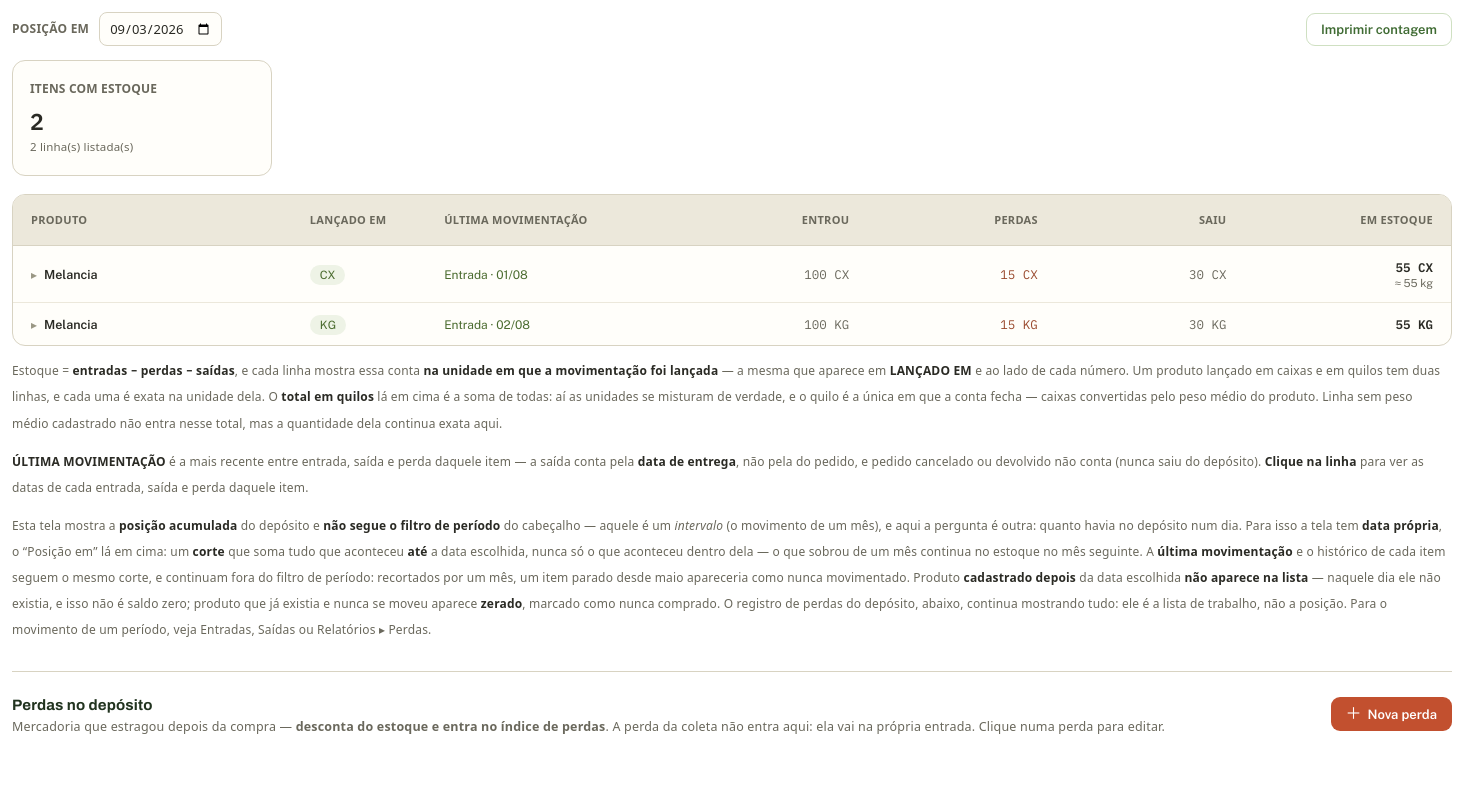
EstoqueLista — historico por item (custo: uma busca para a tela inteira) › cada linha ve so o proprio historico — (produto, unidade) e a chave
The width and height of the screenshot is (1464, 801).
Click the 2nd button: (71,274) [13,246,1451,303]
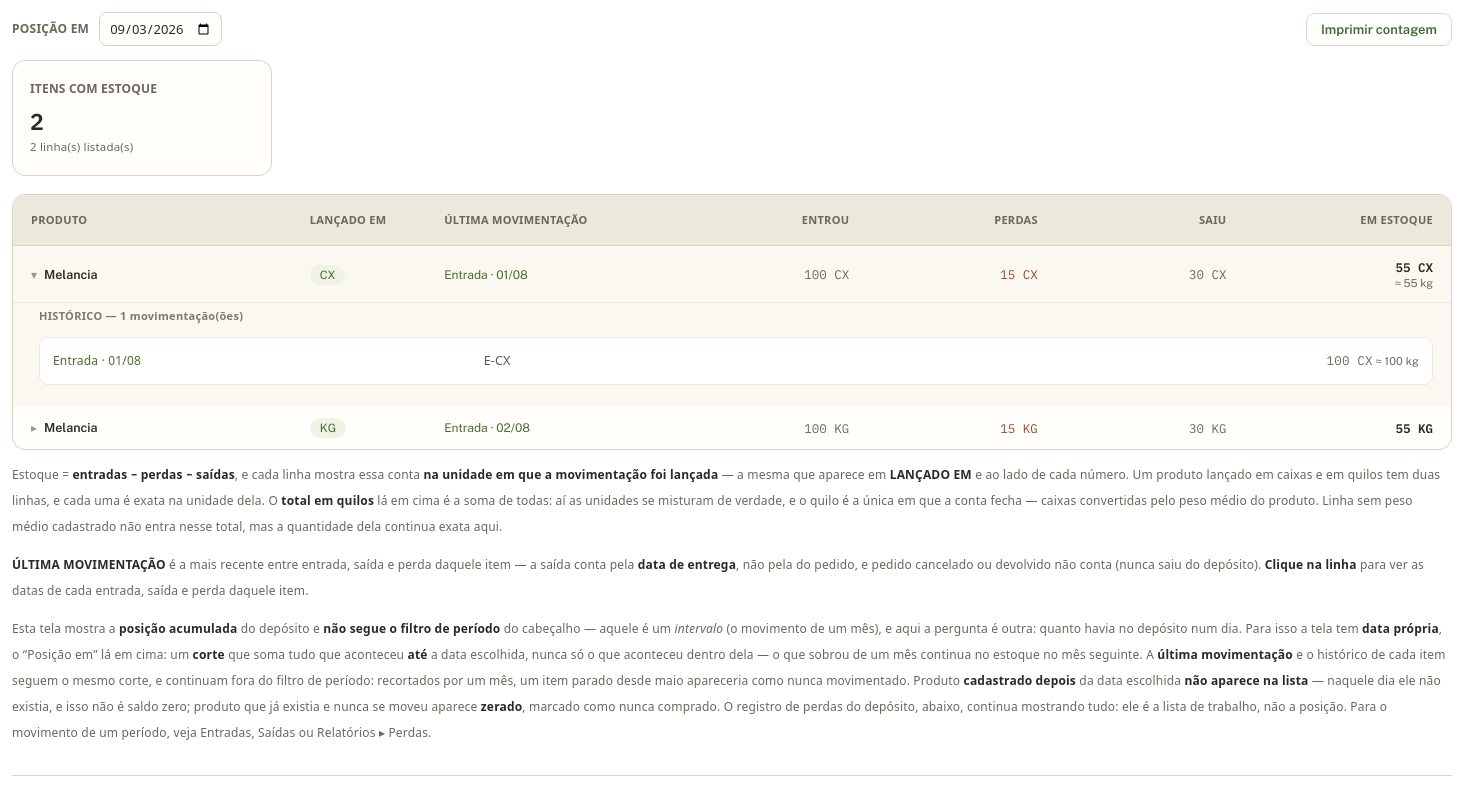
Check: the text "E-CX" is shown, box [484,352,510,369]
